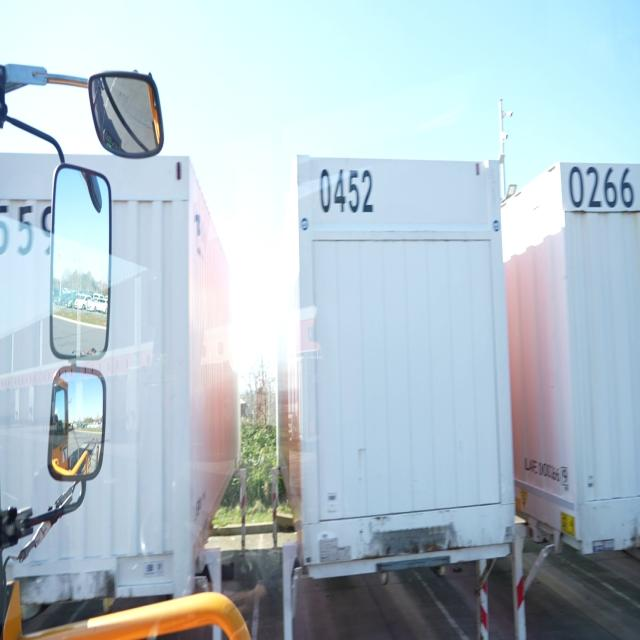Code: (566, 159, 636, 215), (316, 165, 377, 221)
